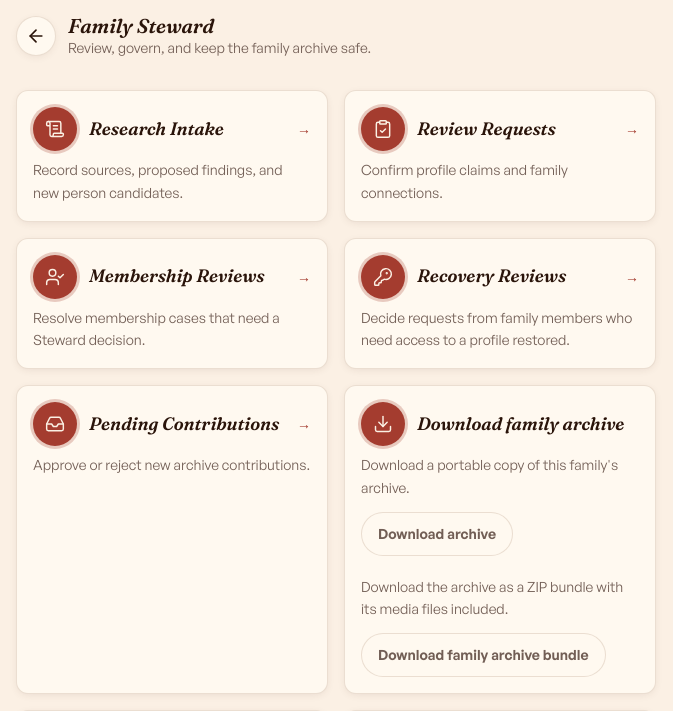
Test case: authorization failure › shows neutral failure feedback and no download when the export is rejected
Click the button with test id "steward_hub.download_bundle_button" at (483, 655), box [361, 633, 606, 677]
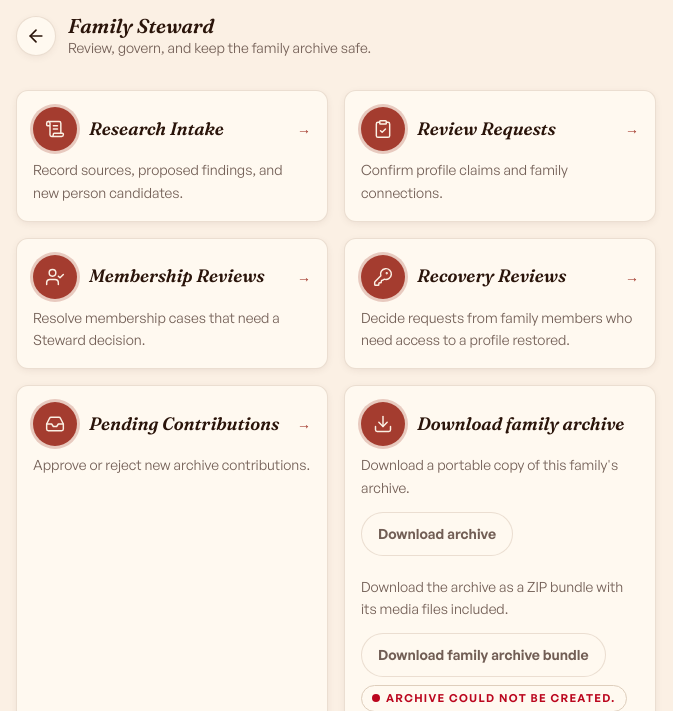
Now the text with test id "steward_hub.download_bundle_error_state" reads "Archive could not be created.", box [386, 691, 616, 705]
